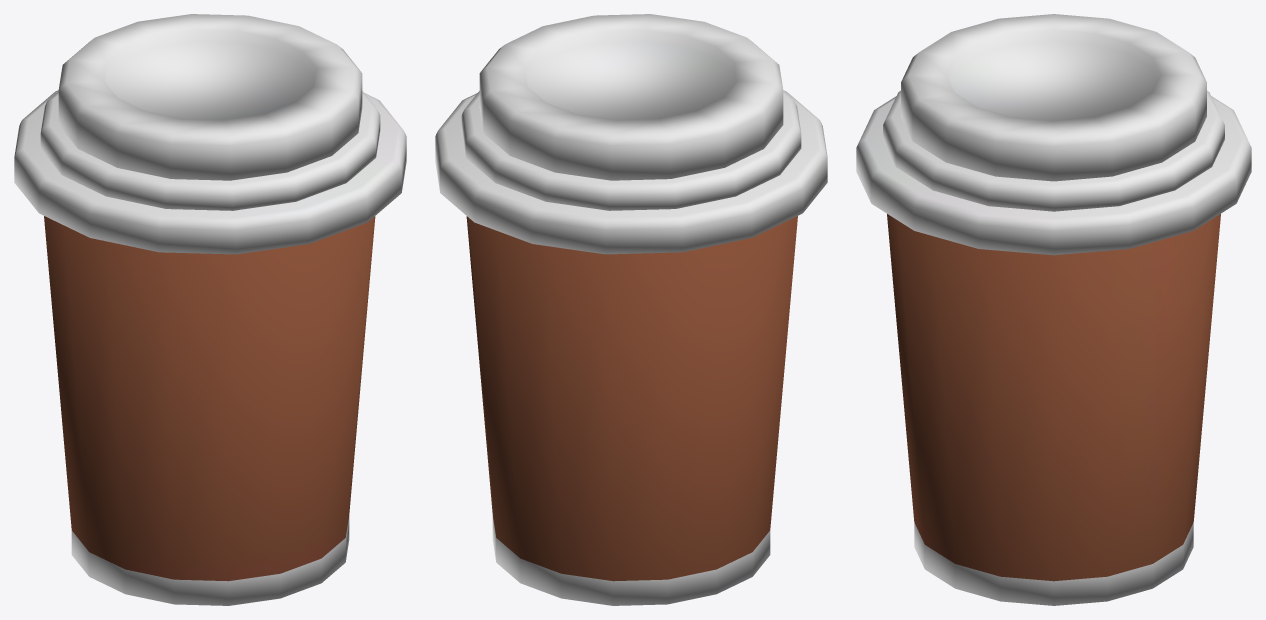
File: coffee_cupp.glb
3 renders of one model, left to right at view 1: azimuth 30°, elevation 25°; view 2: azimuth 150°, elevation 25°; view 3: azimuth 270°, elevation 25°, orthographic.
Visible parts, largest first — view 1: Cylinder_0; view 2: Cylinder_0; view 3: Cylinder_0.
Boxes of the visible parts, box(x1,y1,x2,y2) form: Cylinder_0: box(14, 14, 406, 605); Cylinder_0: box(435, 14, 827, 605); Cylinder_0: box(856, 14, 1251, 605).
Bounding box in the file's own units: 2.83 × 3.72 × 2.83.
Materials: 1 (1 with a texture image).
